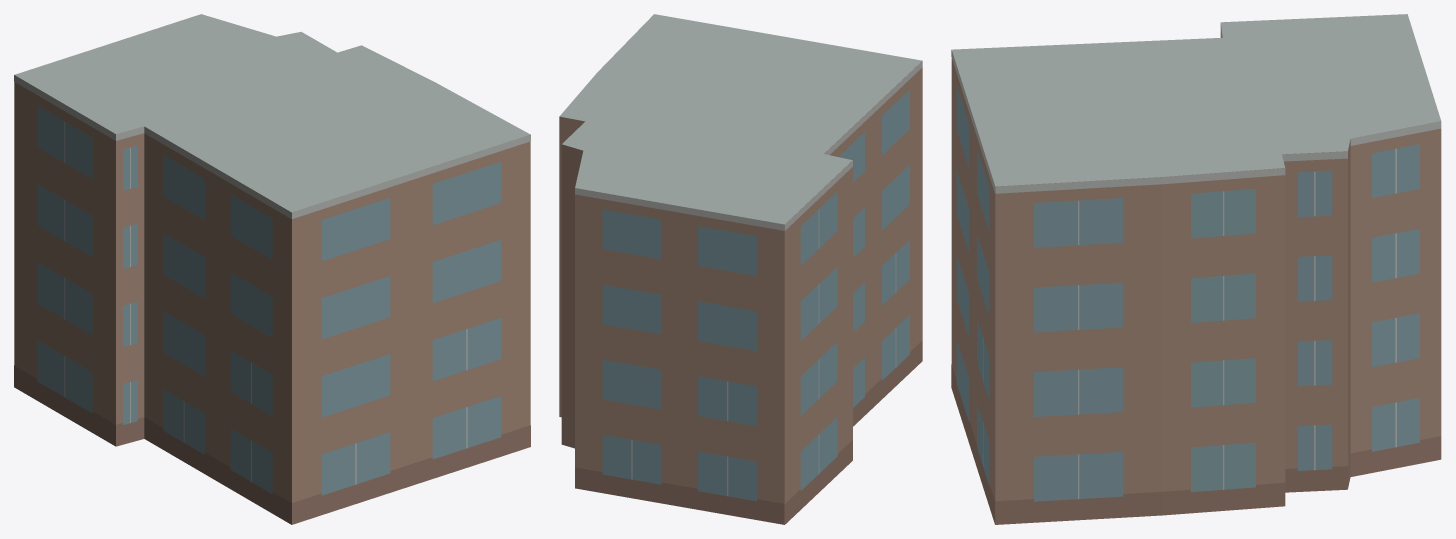
The model's file is survey-upis-32634352.glb.
3 renders of one model, left to right at view 1: azimuth 30°, elevation 25°; view 2: azimuth 150°, elevation 25°; view 3: azimuth 270°, elevation 25°, orthographic. The views are drawn at different scales.
Parts seen in each view (by area): view 1: survey-upis-32634352.tmp; view 2: survey-upis-32634352.tmp; view 3: survey-upis-32634352.tmp.
Boxes of the visible parts, box(x1,y1,x2,y2) form: survey-upis-32634352.tmp: box(14, 14, 530, 524); survey-upis-32634352.tmp: box(559, 14, 922, 524); survey-upis-32634352.tmp: box(951, 14, 1441, 524).
Size of the model in its own units: 12.36 by 11.3 by 14.83.
